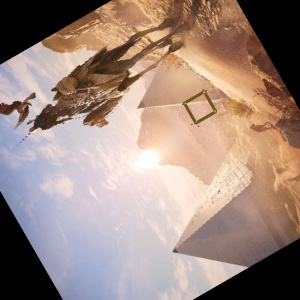square: (180, 88, 219, 124)
